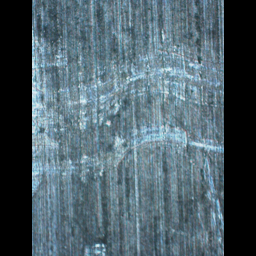d: (32, 30, 224, 194)
